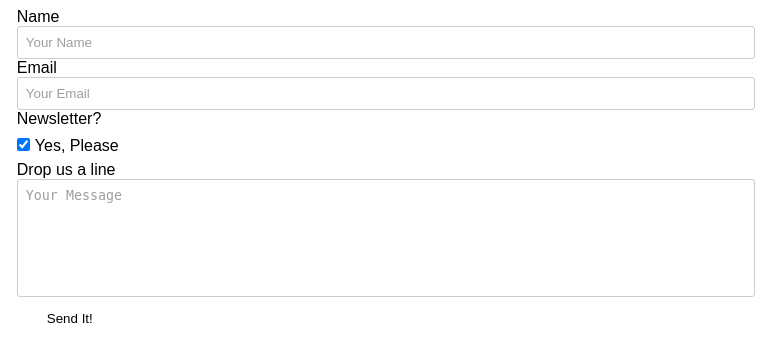
Test: 🧪 FORM: › submit tests: › should fail with bad words in message
Type "test@example.com" into the field labelled "Email".
click(386, 94); type("test@example.com")  # box [17,77,755,110]
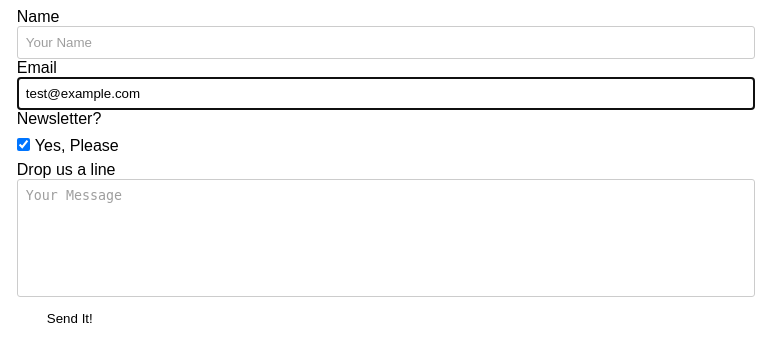
Type "John Doe" into the field labelled "Name".
click(386, 42); type("John Doe")  # box [17,26,755,59]
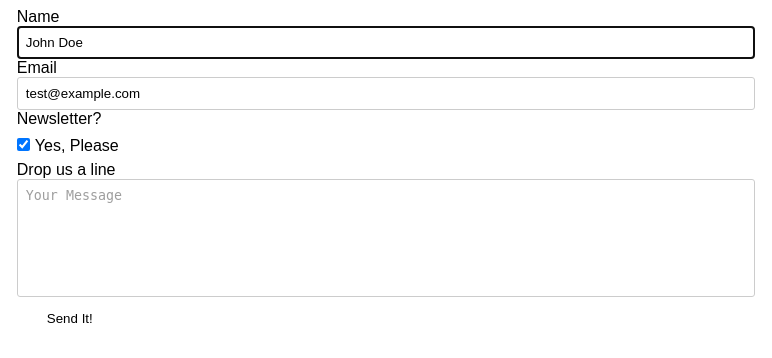
Type "sh1t" into the text box.
click(386, 238); type("sh1t")  # box [17,179,755,297]
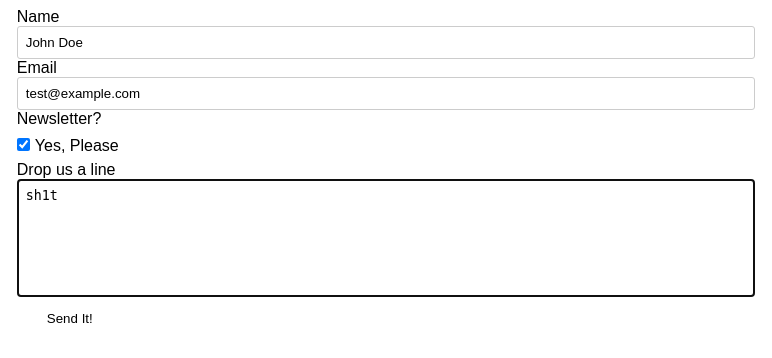
Click the button "Send it!".
click(70, 318)  # box [17,301,123,336]
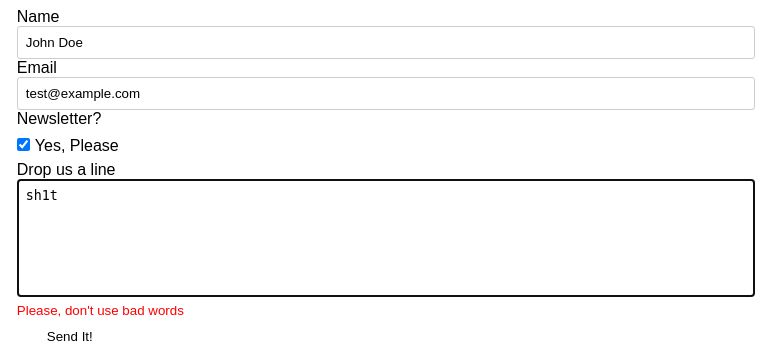
Expected: the text "Please, don't use bad words" is shown, [17,303,184,318]
